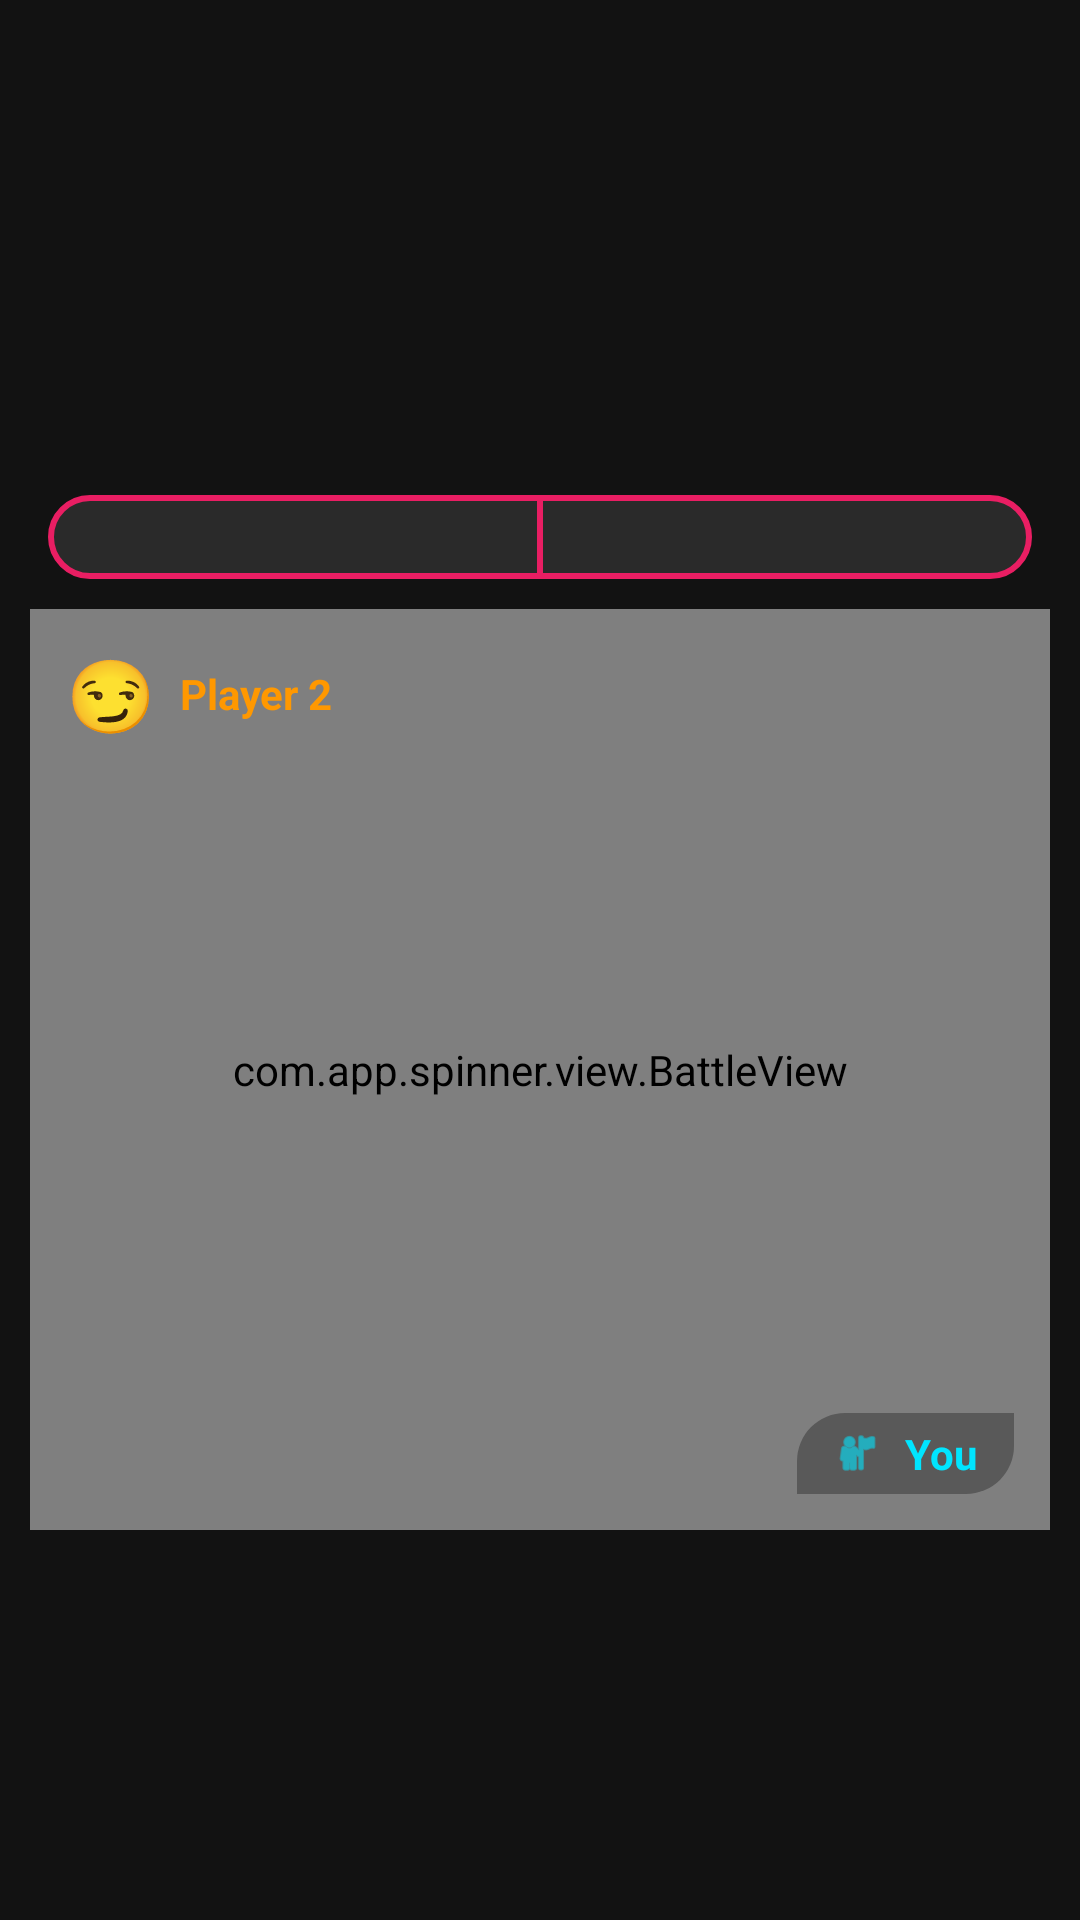

Locate icon controls on the screen. Image size 1080 × 1920, boxes as (x1, y1, x2, y2).
myplaces: (840, 1435, 876, 1471)
